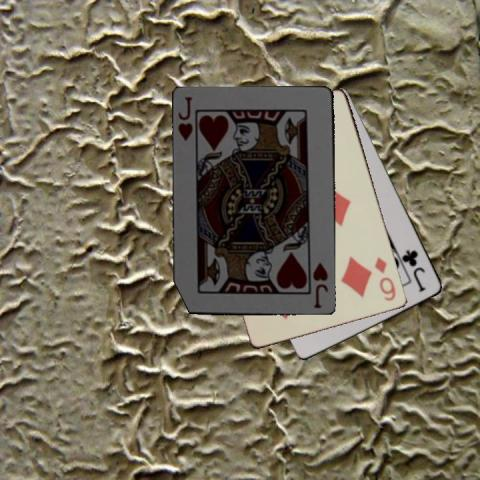6d: (372, 254, 397, 303)
Jc: (401, 247, 428, 293)
Jh: (176, 94, 198, 146), (310, 260, 329, 310)
